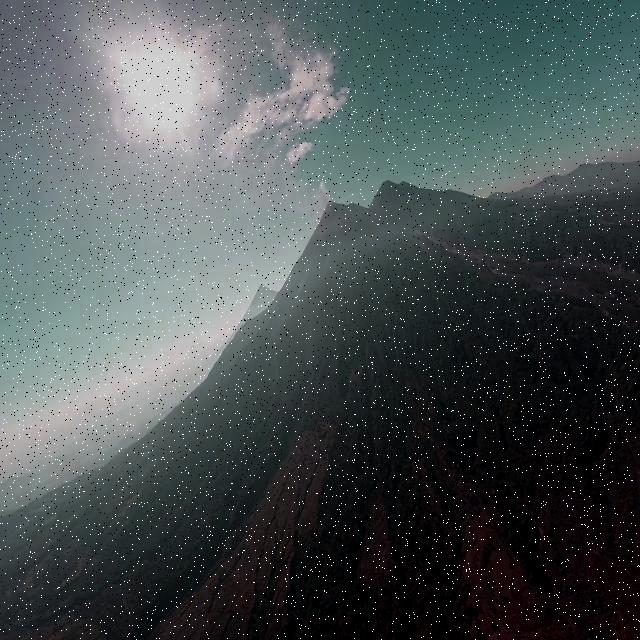Plume: (238, 21, 352, 130), (285, 140, 315, 172), (316, 180, 329, 206)
Summit: (318, 196, 349, 221)
